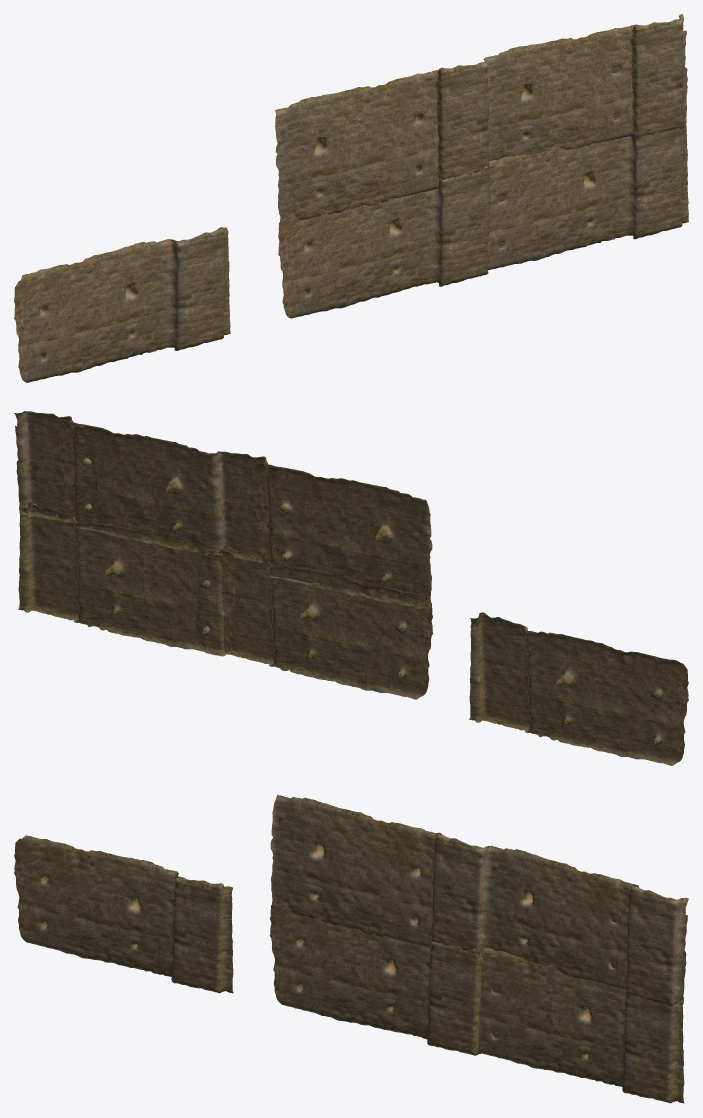
Rendered from medieval_wall_scan_01.glb.
The picture shows the model from 3 angles, top to bottom: view 1: azimuth 30°, elevation 25°; view 2: azimuth 150°, elevation 25°; view 3: azimuth 330°, elevation 25°; orthographic projection.
Visible parts, largest first — view 1: Object_4; view 2: Object_4; view 3: Object_4.
Part boxes in pixels (box(x1,y1,x2,y2)): Object_4: box(14, 14, 688, 382); Object_4: box(14, 411, 688, 765); Object_4: box(14, 794, 688, 1103).
Bounding box in the file's own units: 19.86 × 6.08 × 1.
Materials: 1 (1 with a texture image).
